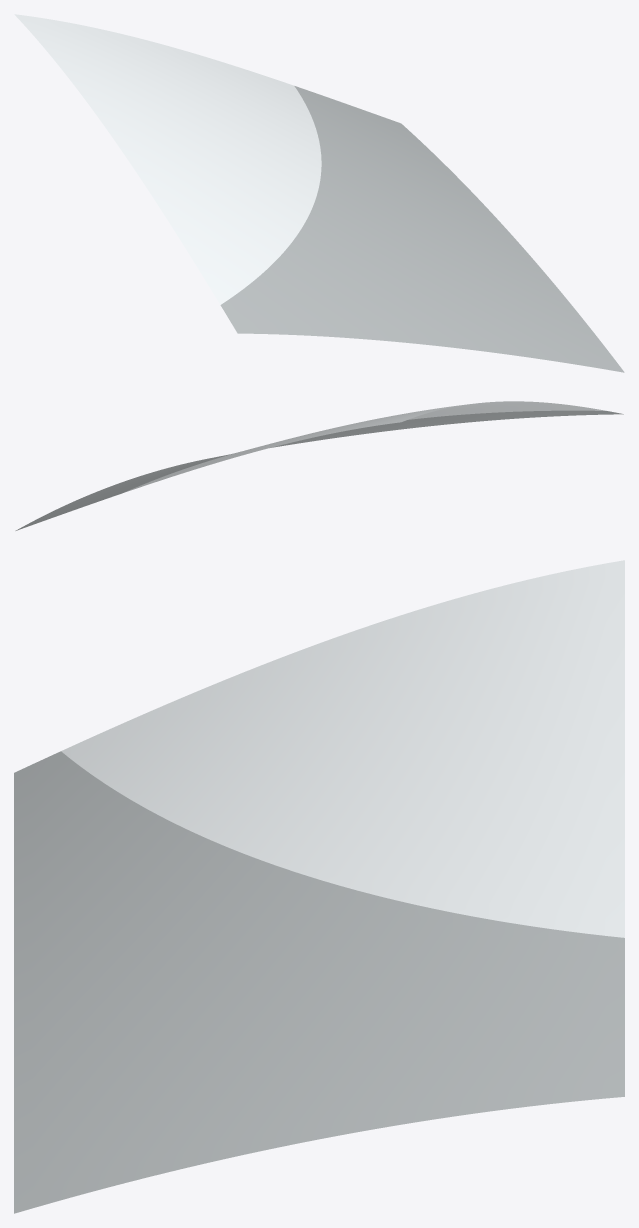
File: alpine-15-10.glb
3 views of the same model, one above another, from view 1: azimuth 30°, elevation 25°; view 2: azimuth 150°, elevation 25°; view 3: azimuth 270°, elevation 25° (orthographic). The views are drawn at different scales.
Parts seen in each view (by area): view 1: alpine-15-10; view 2: alpine-15-10; view 3: alpine-15-10.
Part boxes in pixels (x1=…): alpine-15-10: x1=14, y1=14, x2=624, y2=372; alpine-15-10: x1=15, y1=401, x2=623, y2=530; alpine-15-10: x1=14, y1=560, x2=624, y2=1213.
Bounding box in the file's own units: 256 × 183 × 256.
2 materials, 2 textured.
